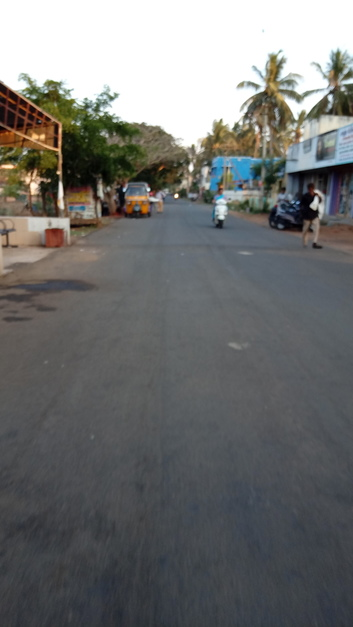bump: (66, 239, 339, 253)
